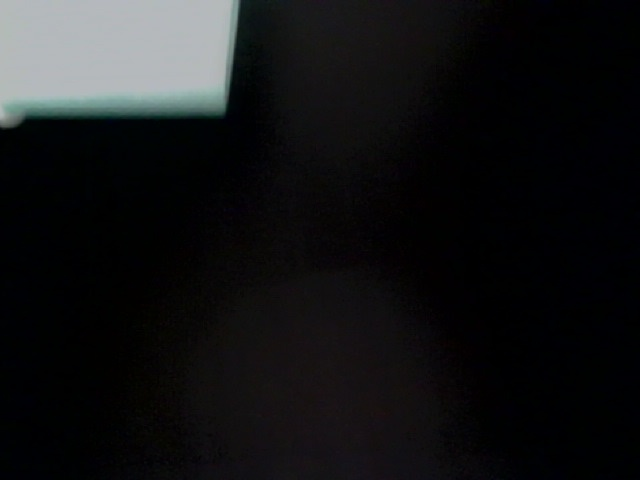CYLJ: (254, 381, 362, 480)
